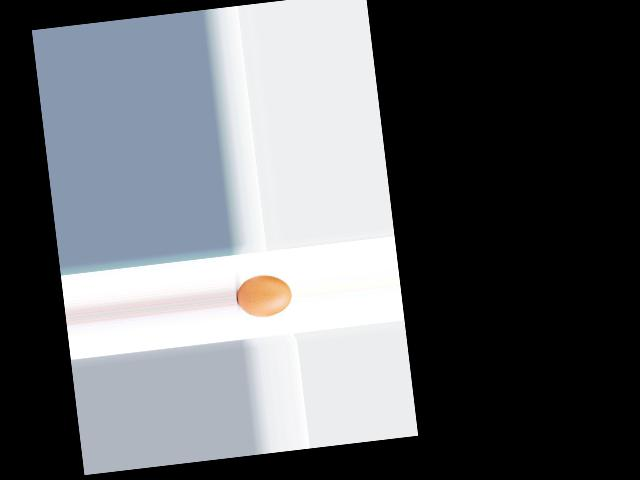egg: (234, 272, 293, 319)
